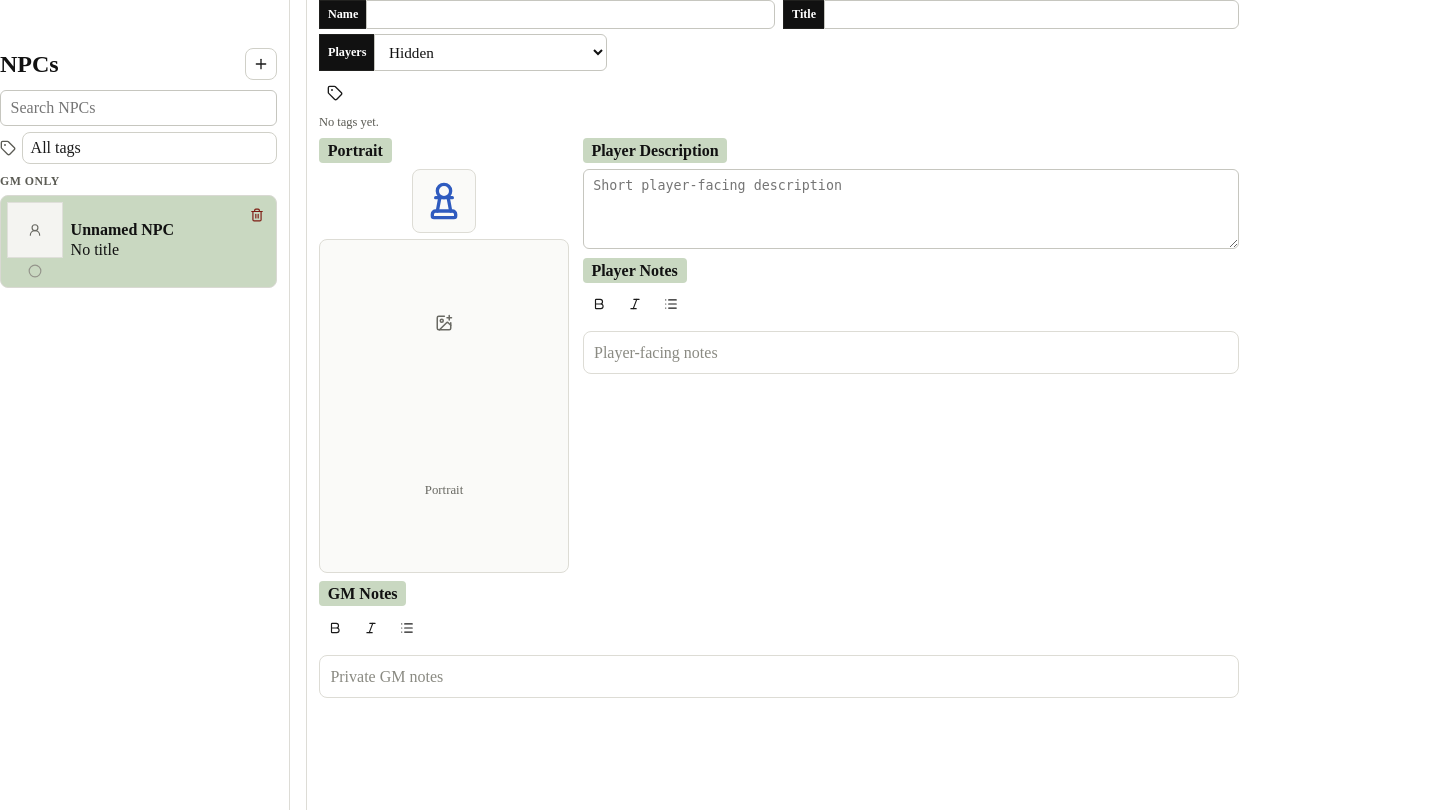
Test: adding and deleting › cancels a delete without touching anything, and names an unnamed NPC generically
Click the button named "Delete NPC".
click(257, 215)  # box [241,199,273,231]
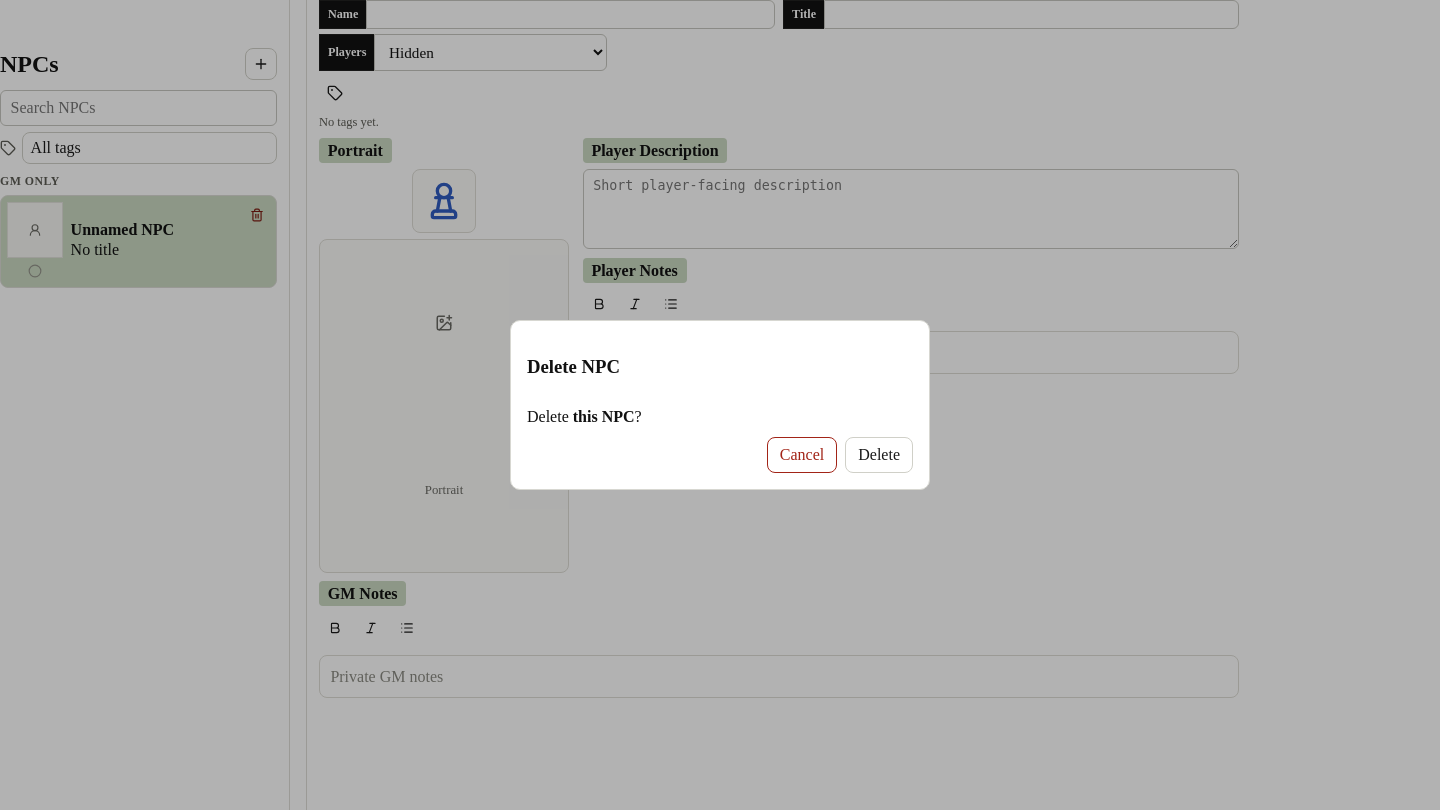
Result: the dialog shows "Delete this NPC?"
Click the button "Cancel".
click(802, 455)  # box [767,437,837,473]
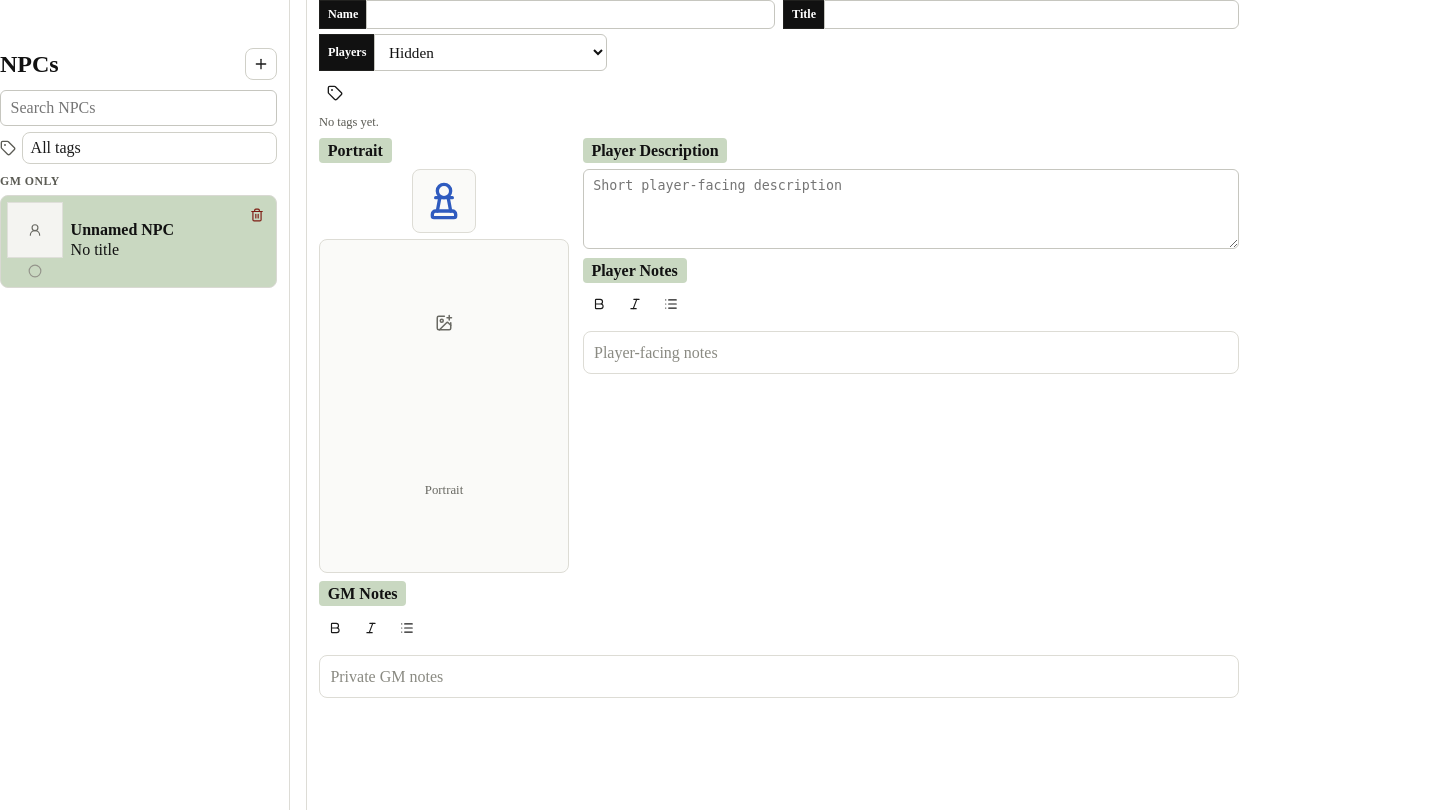
Result: the dialog is gone
